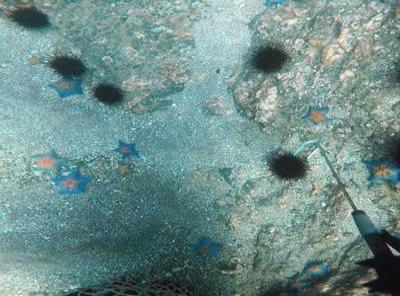urchin: (251, 42, 290, 75), (6, 5, 53, 32), (269, 151, 308, 182), (48, 52, 88, 80), (92, 80, 127, 106)
